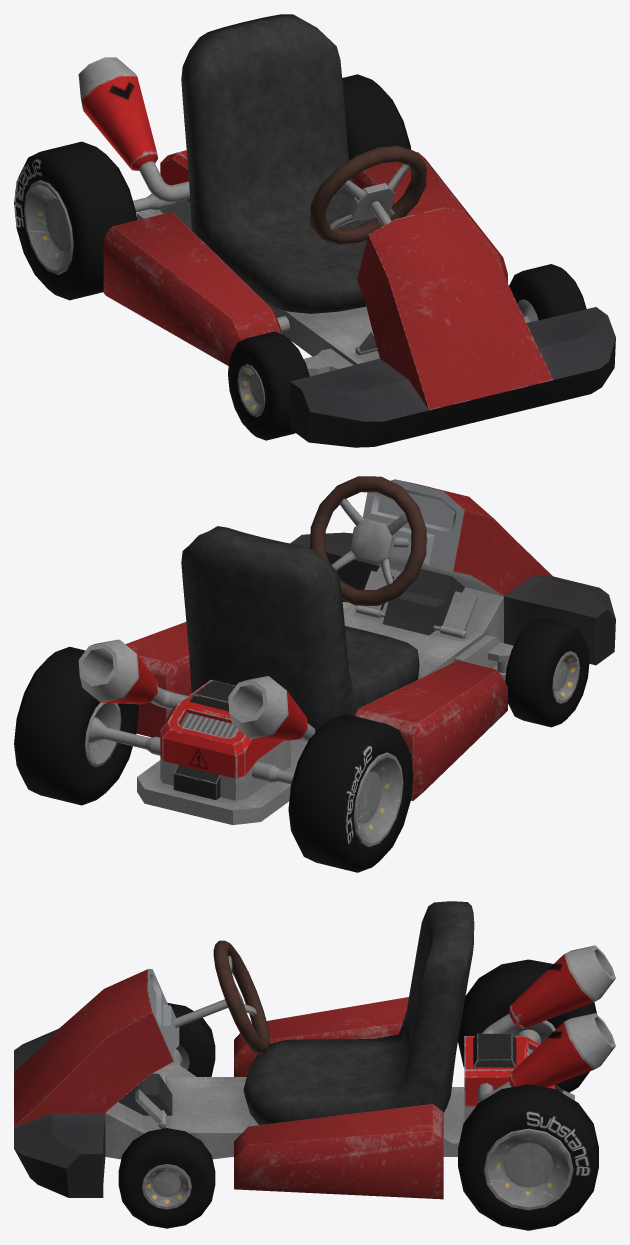
The model's file is UdonKart.fbx.
3 views of the same model, one above another, from view 1: azimuth 30°, elevation 25°; view 2: azimuth 150°, elevation 25°; view 3: azimuth 270°, elevation 25° (orthographic). The views are drawn at different scales.
Parts seen in each view (by area): view 1: KartBody, Seat, RearWheel, Steering, FrontRightWheel, FrontLeftWheel; view 2: KartBody, RearWheel, Seat, Steering, FrontRightWheel; view 3: KartBody, Seat, RearWheel, FrontLeftWheel, Steering, FrontRightWheel.
Part boxes in pixels (x1,y1,x2,y2): KartBody: (78,57,615,447); Seat: (181,14,376,313); RearWheel: (14,74,411,300); Steering: (310,145,426,244); FrontRightWheel: (228,331,309,440); FrontLeftWheel: (509,264,586,320); KartBody: (78,479,615,824); RearWheel: (14,646,413,872); Seat: (181,526,419,732); Steering: (310,476,426,605); FrontRightWheel: (505,618,589,727); KartBody: (14,945,615,1199); Seat: (243,901,474,1124); RearWheel: (458,959,598,1230); FrontLeftWheel: (118,1128,215,1228); Steering: (173,940,269,1054); FrontRightWheel: (167,1003,215,1076).
Bounding box in the file's own units: 138 × 104 × 235.
